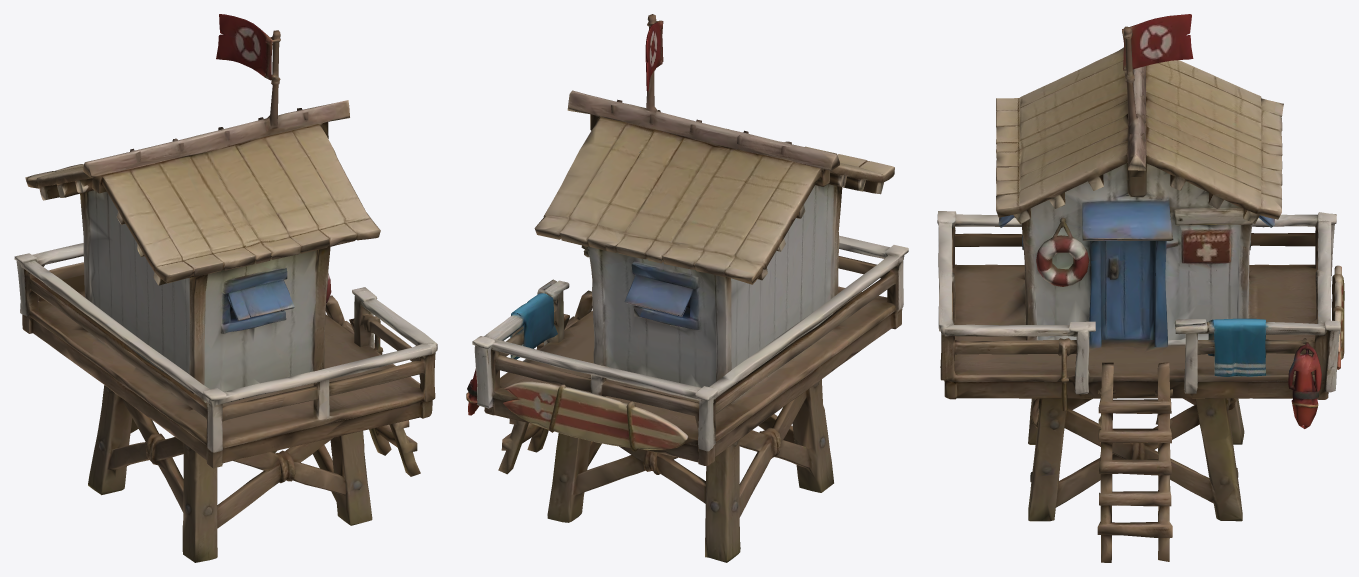
The model's file is casilla.glb.
3 views of the same model, side by side, from view 1: azimuth 30°, elevation 25°; view 2: azimuth 150°, elevation 25°; view 3: azimuth 270°, elevation 25° (orthographic).
Parts seen in each view (by area): view 1: tripo_node_a8d07633-9d8e-4412-810a-b23fdb449a22; view 2: tripo_node_a8d07633-9d8e-4412-810a-b23fdb449a22; view 3: tripo_node_a8d07633-9d8e-4412-810a-b23fdb449a22.
Boxes of the visible parts, x1,y1,x2,y2 form: tripo_node_a8d07633-9d8e-4412-810a-b23fdb449a22: (14, 14, 437, 562); tripo_node_a8d07633-9d8e-4412-810a-b23fdb449a22: (466, 14, 908, 562); tripo_node_a8d07633-9d8e-4412-810a-b23fdb449a22: (937, 14, 1344, 562).
Bounding box in the file's own units: 0.7066 × 1 × 0.7779.
1 material, 1 textured.
